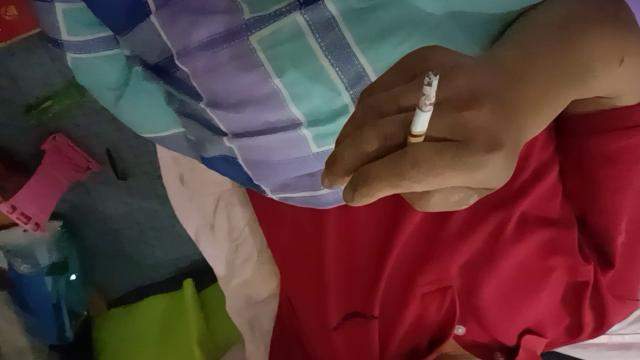Cigarette: (400, 72, 440, 166)
